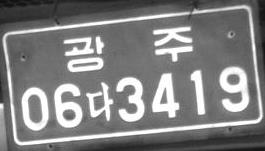0: (20, 86, 49, 132)
1: (184, 69, 213, 115)
3: (115, 75, 145, 123)
4: (151, 72, 180, 118)
6: (53, 81, 84, 129)
9: (218, 65, 250, 113)
광주_D: (62, 25, 194, 73)
다: (85, 80, 114, 121)
